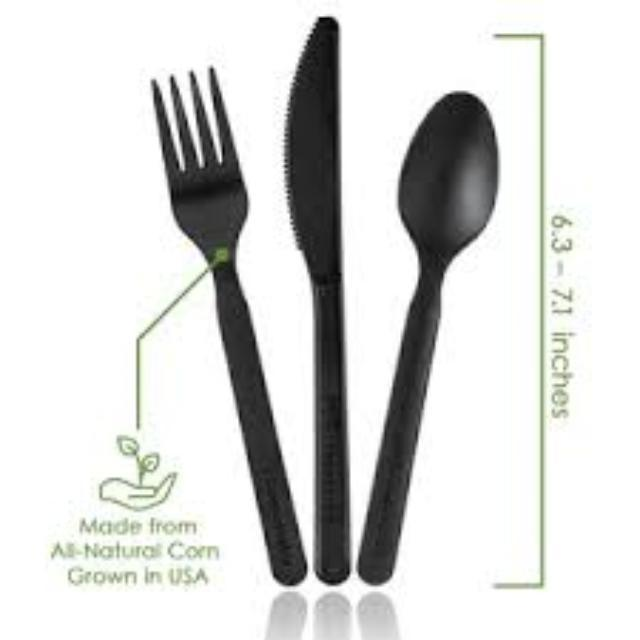Plastico descartable: (152, 69, 306, 584), (359, 92, 499, 584), (285, 18, 350, 583)
